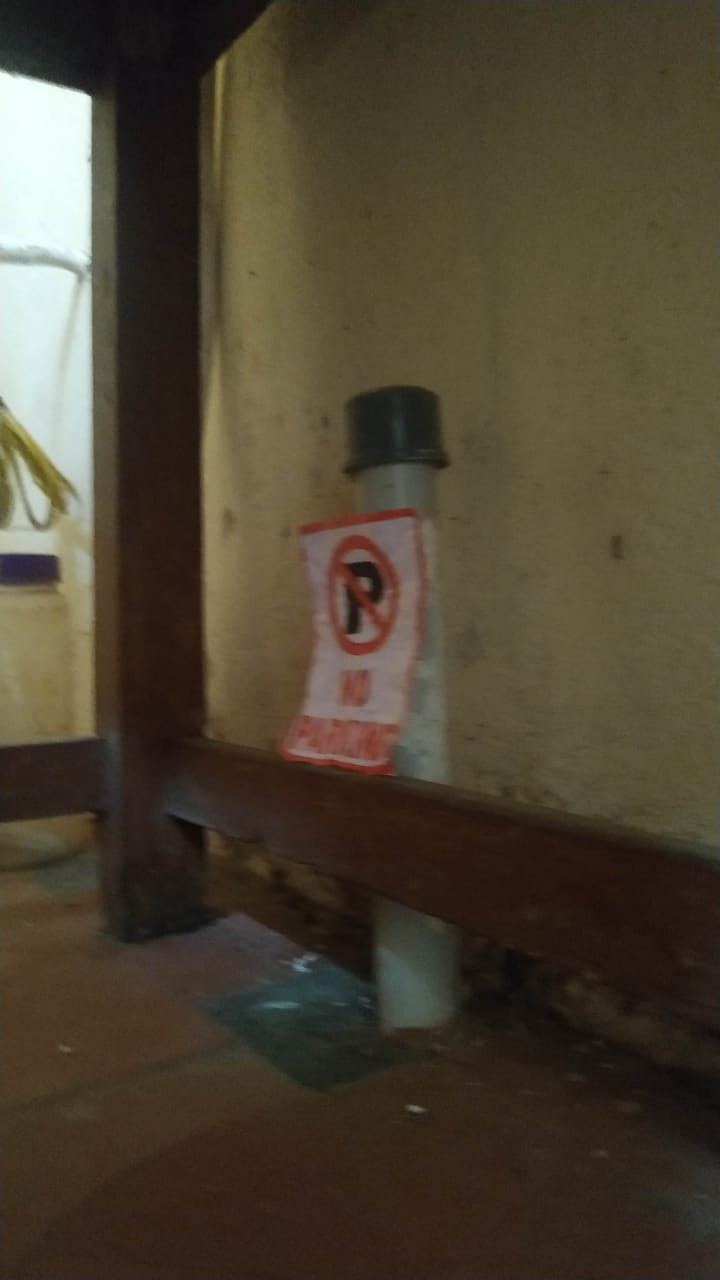NO PARKING: (275, 506, 429, 777)
